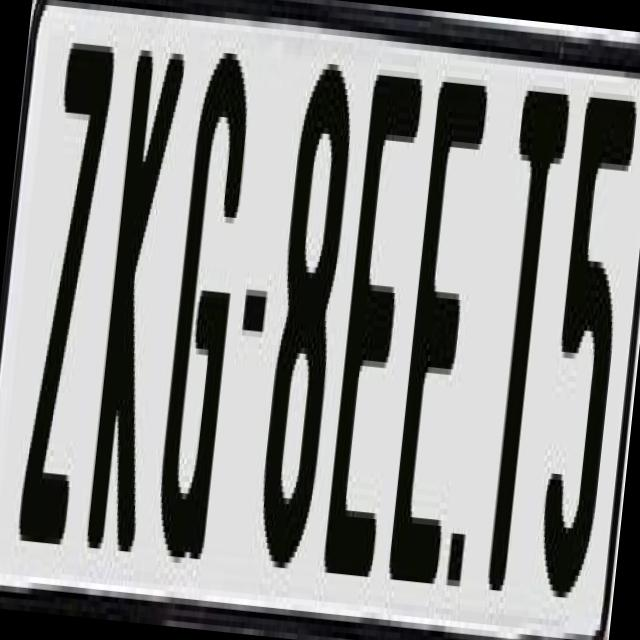5: (534, 78, 640, 582)
8: (252, 49, 368, 588)
E: (384, 75, 494, 596), (317, 62, 421, 582)
G: (148, 50, 254, 588)
K: (85, 38, 186, 564)
T: (469, 90, 571, 592)
Z: (13, 42, 121, 568)
